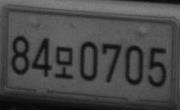0: (123, 44, 144, 86), (78, 40, 98, 82)
4: (31, 37, 52, 78)
5: (147, 46, 167, 88)
7: (100, 42, 122, 83)
8: (10, 34, 30, 75)
모: (54, 45, 73, 80)
